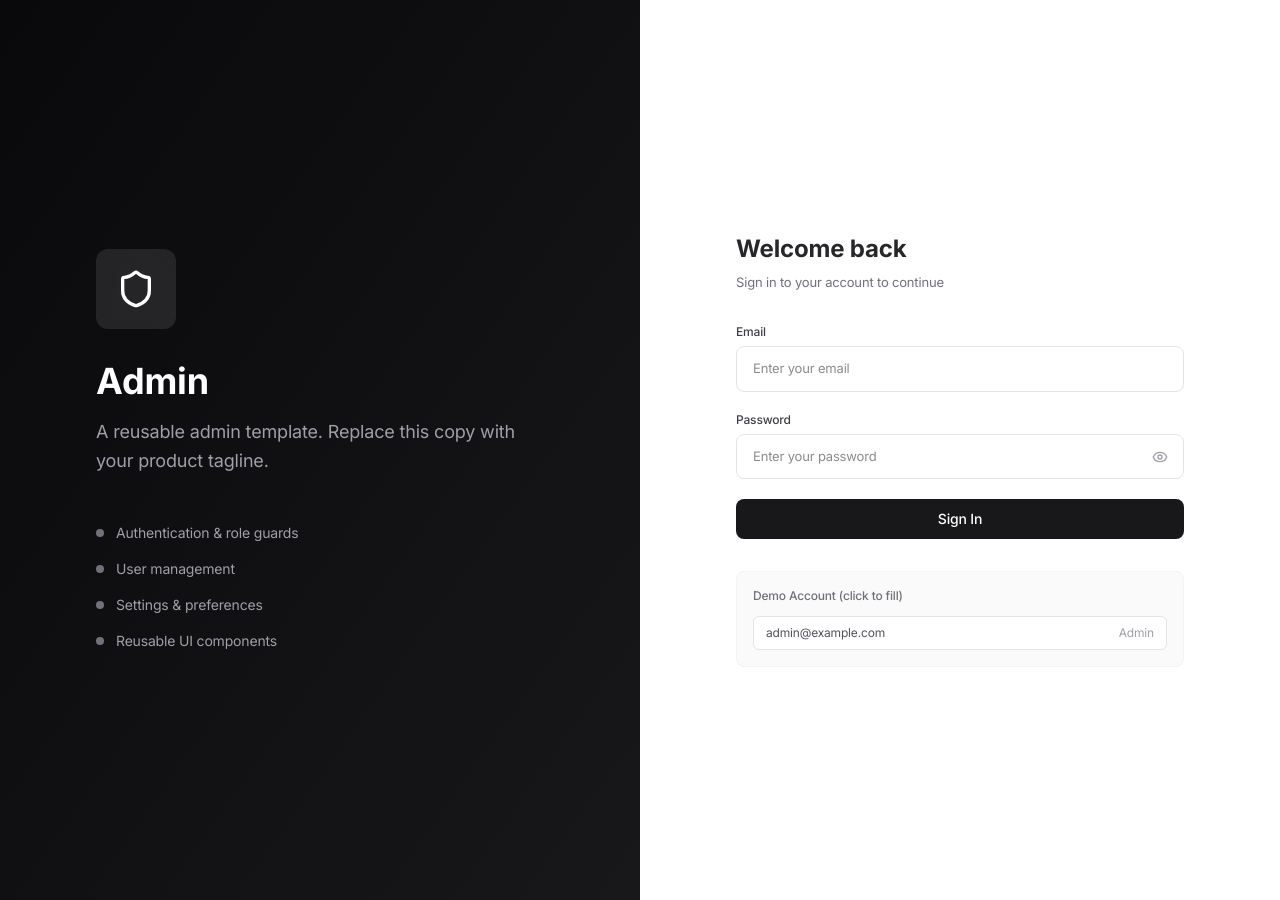
Scenario: LoginPage › shows an inline error on bad credentials
Type "nobody@example.com" into the field with placeholder "Enter your email" at (960, 369), box [736,346,1184,392]
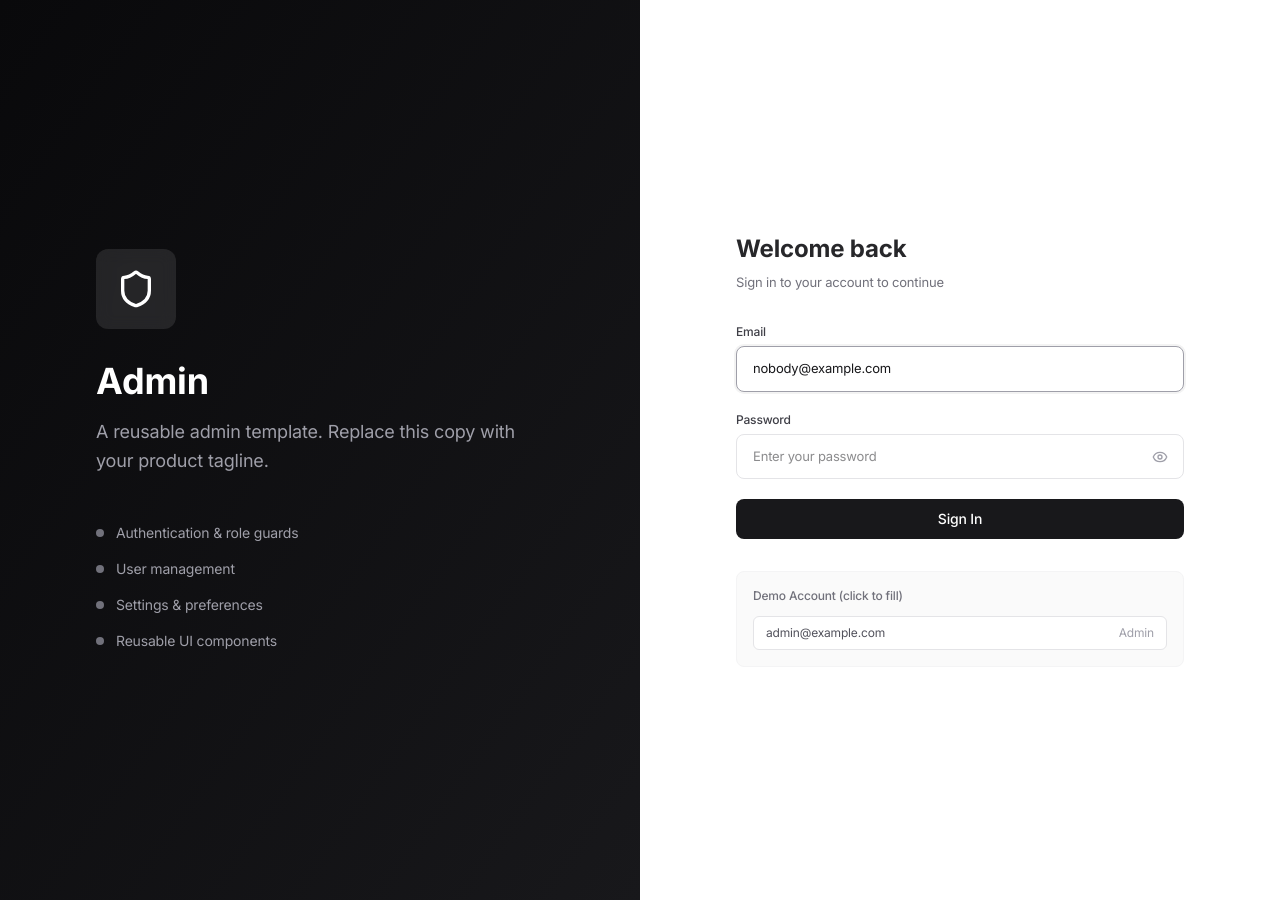
Type "whatever" into the password field with placeholder "Enter your password" at (960, 457), box [736,434,1184,479]
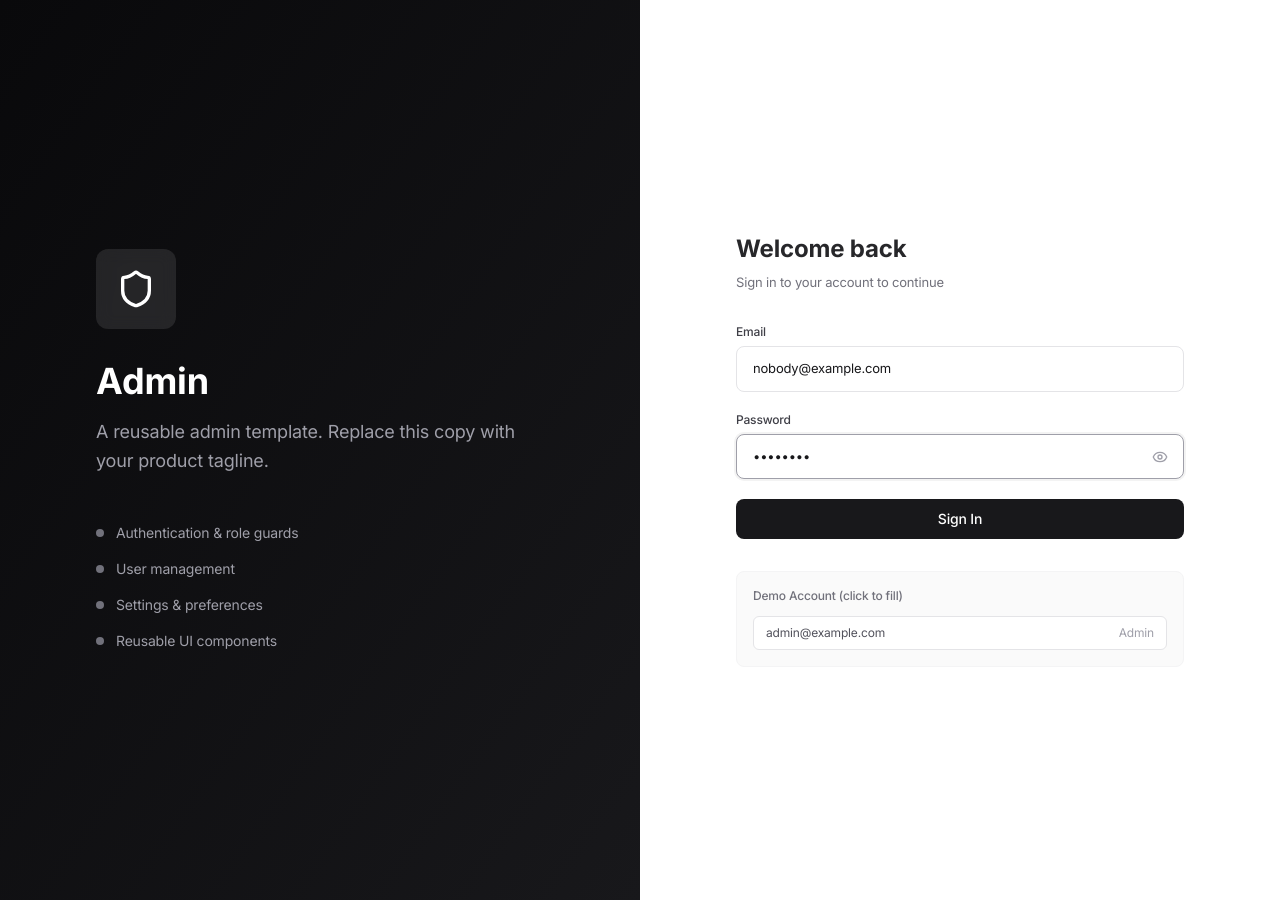
Click the button "Sign In" at (960, 519), box [736,499,1184,539]
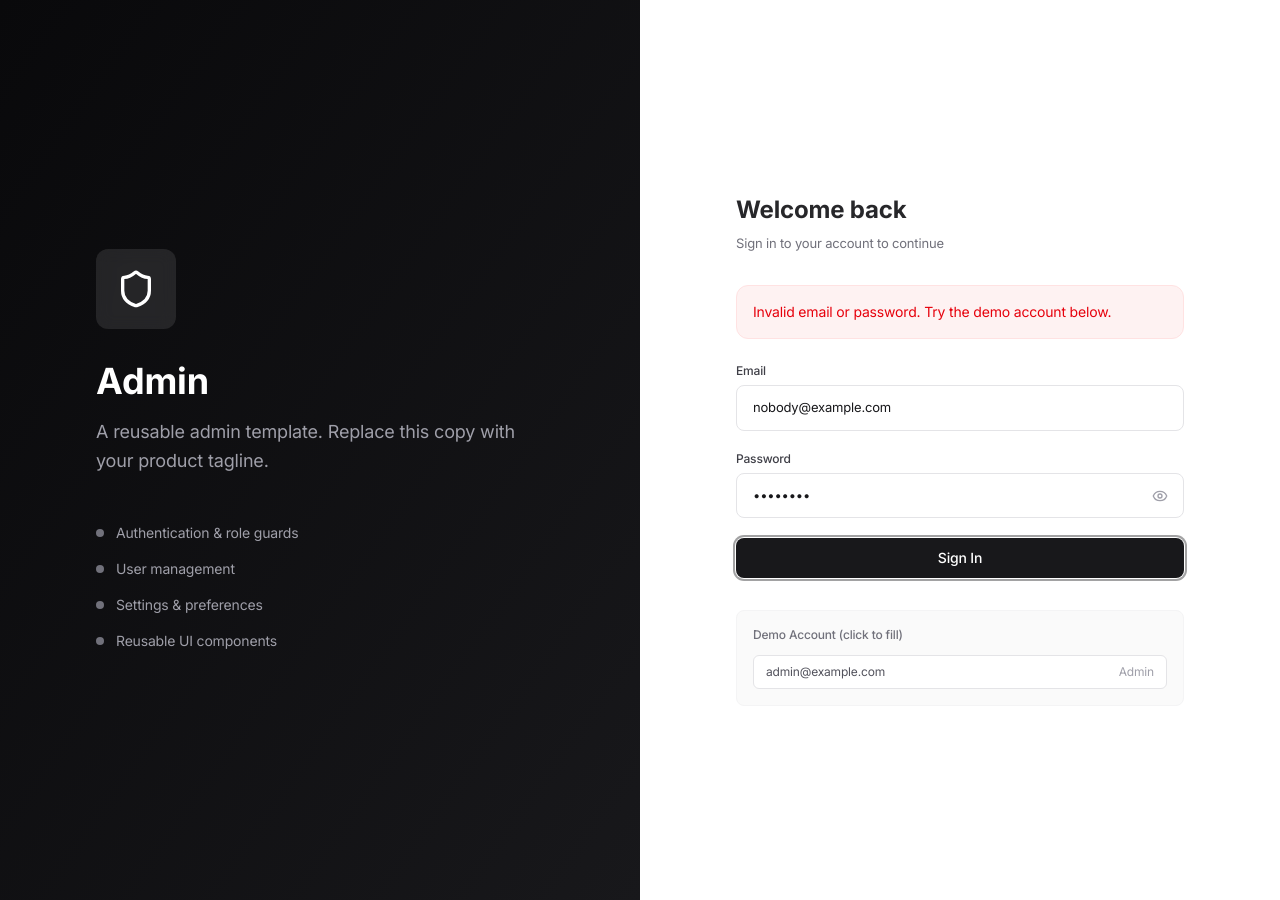
Expected: the text "Invalid email or password. Try the demo account below." is shown, [736,285,1184,339]
